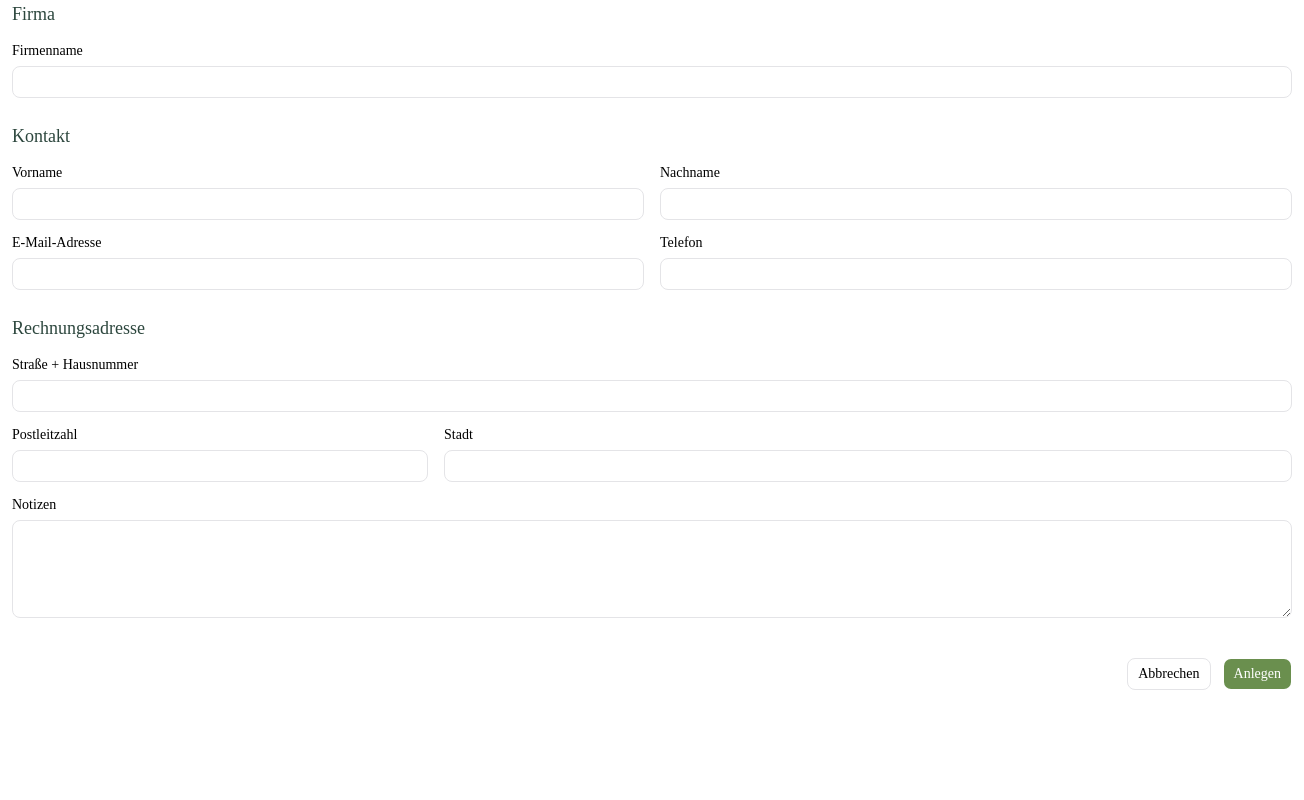
Scenario: CustomerForm — create mode › shows the invalid-email message when an invalid email is entered
Type "Anna" into the field labelled "Vorname". click: [328, 204]
box: x1=12 y1=188 x2=644 y2=220
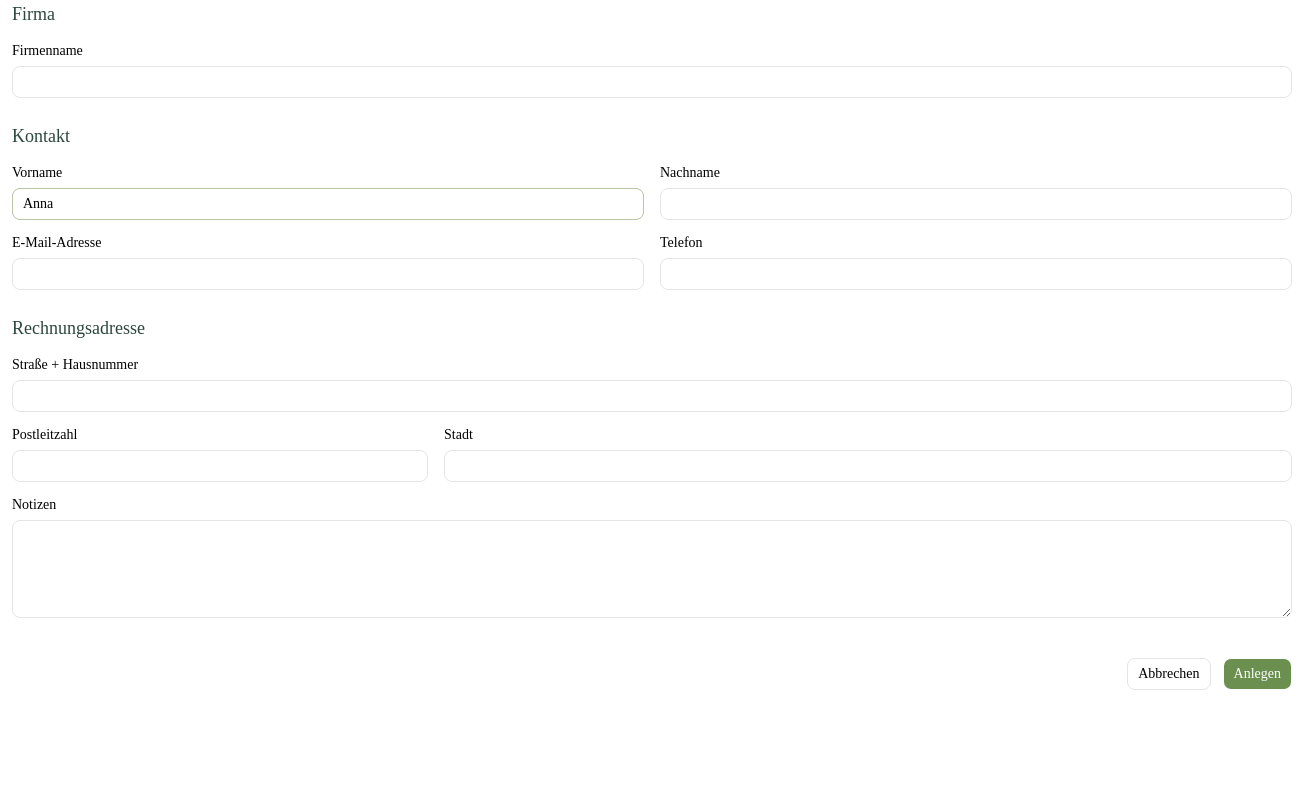
Type "Berger" into the field labelled "Nachname". click: [976, 204]
box: x1=660 y1=188 x2=1292 y2=220
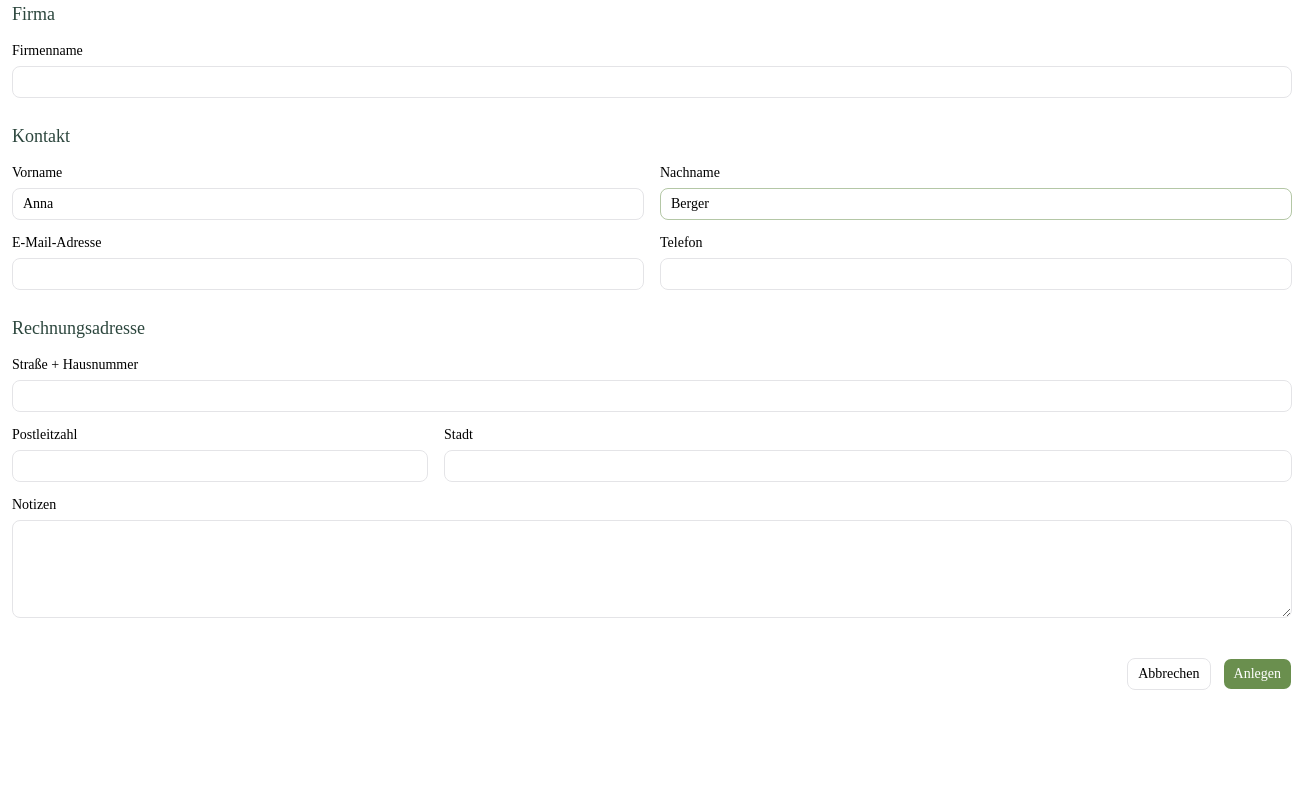
Type "not-an-email" into the field labelled "E-Mail-Adresse". click: [328, 274]
box: x1=12 y1=258 x2=644 y2=290
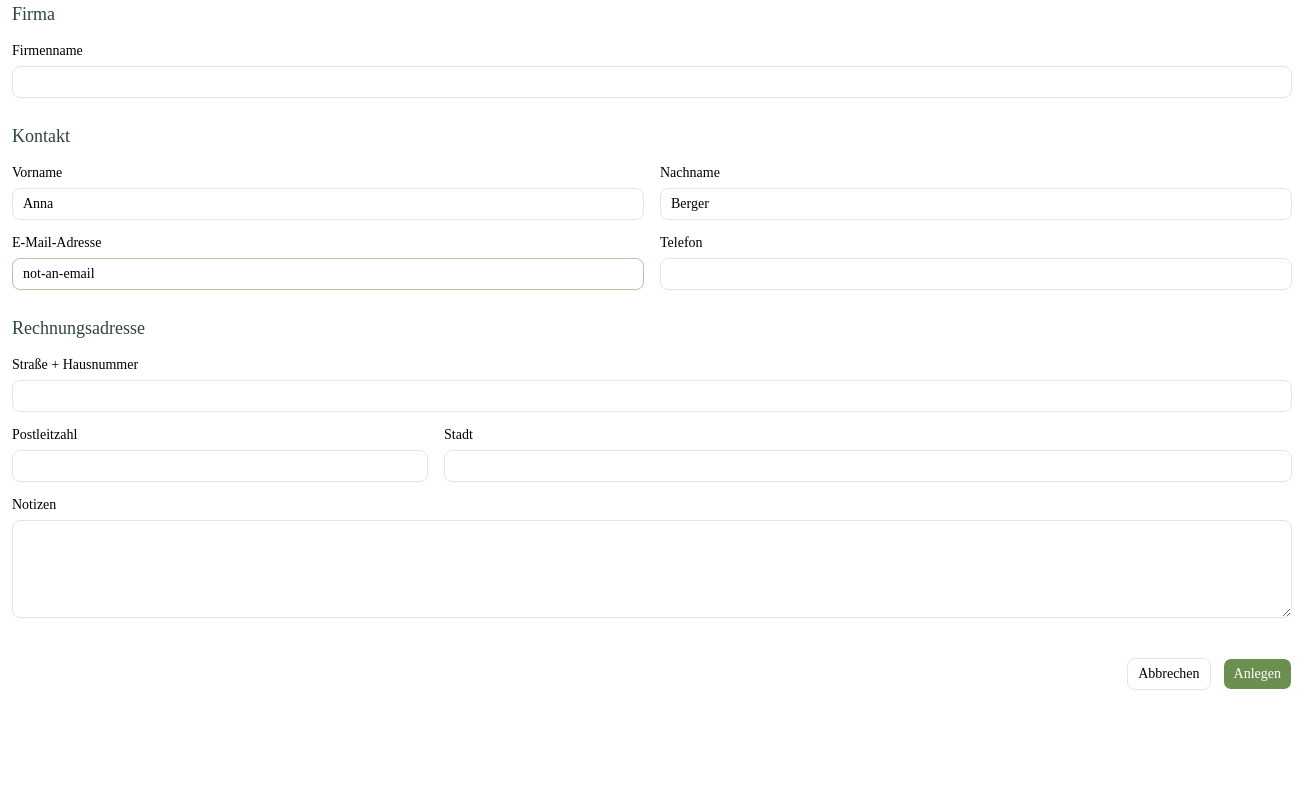
Click the button "Anlegen". click: [1257, 674]
box: x1=1223 y1=658 x2=1292 y2=690
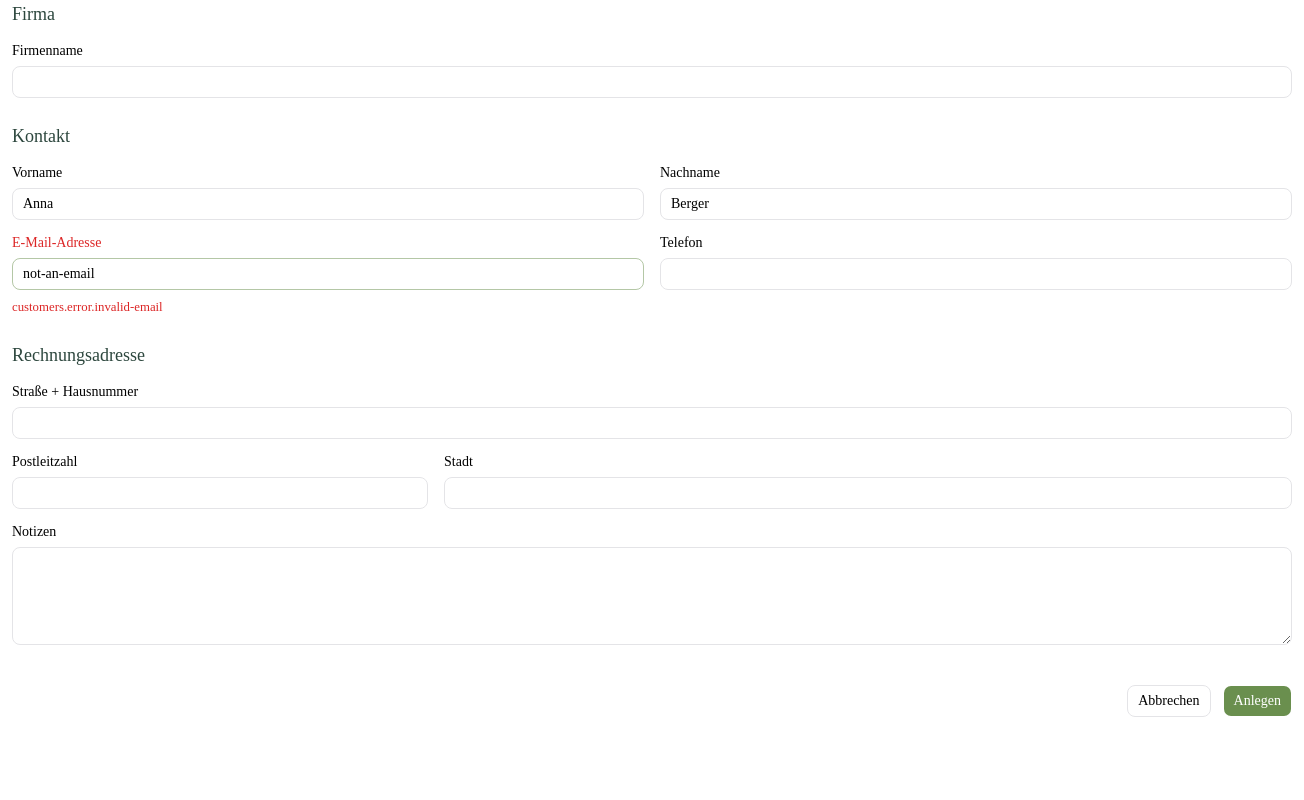
Check: the text "customers.error.invalid-email" is shown, box x1=12 y1=300 x2=163 y2=314
